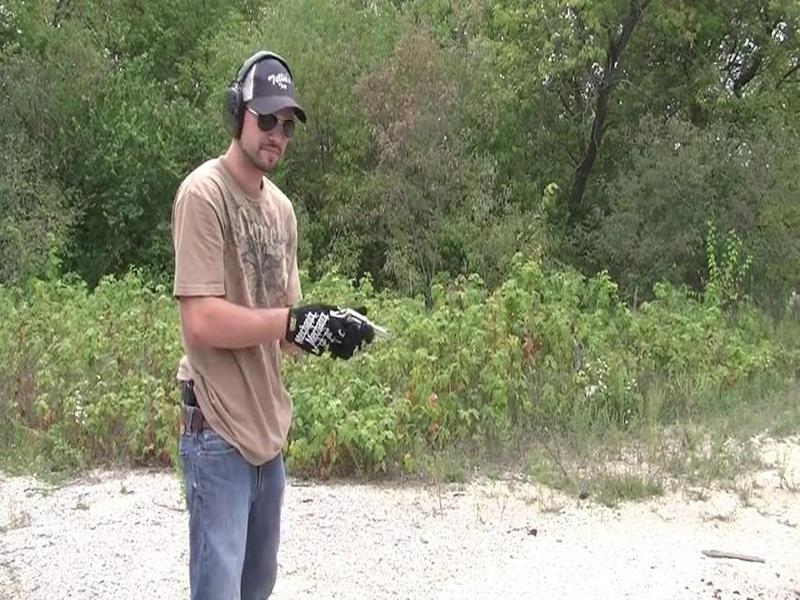Revolver: (309, 300, 407, 358)
